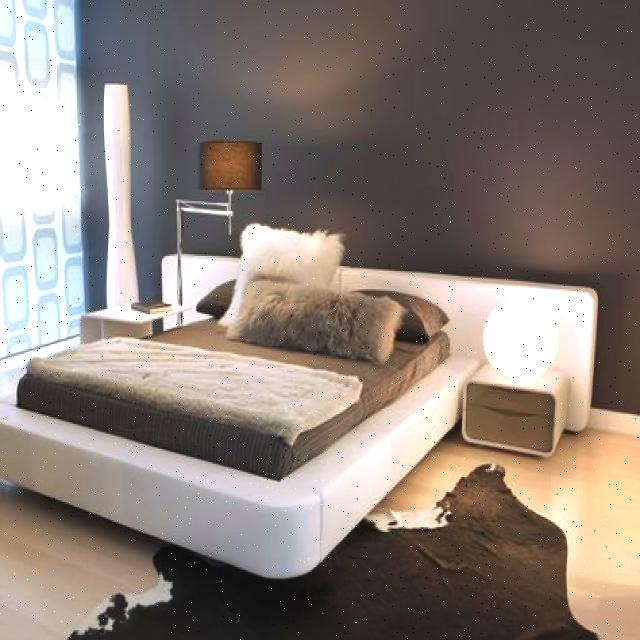bed: (12, 221, 452, 485)
